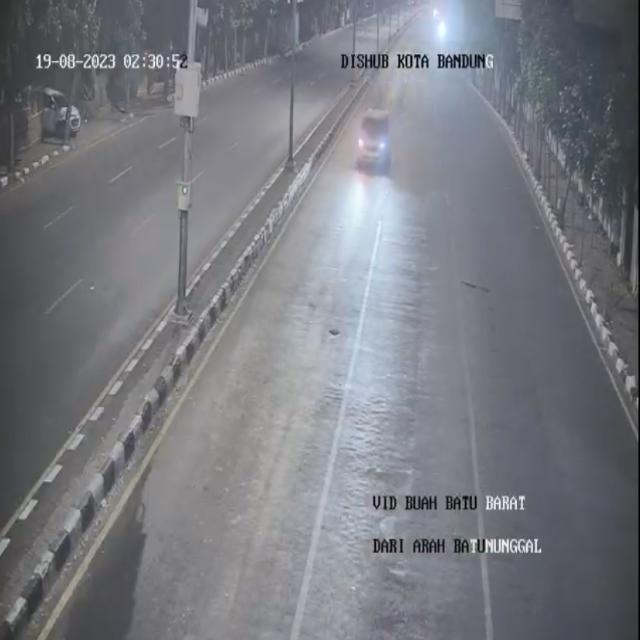cars: (359, 111, 388, 174)
